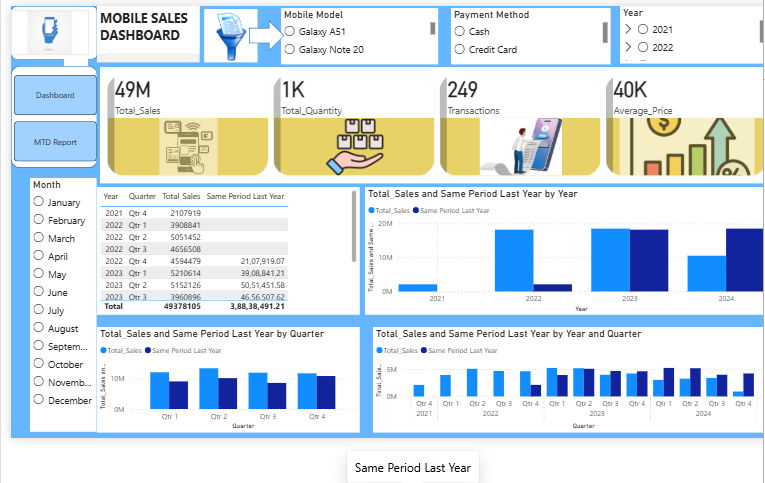

What the dashboard file says about the page in this screenshot:
{"tool":"powerbi","page":{"name":"Same Period Last Year","canvas":[1280,720],"ordinal":2},"visuals":[{"type":"shape","box":[0,0,144,89.3],"z":0},{"type":"image","box":[0,7.2,129.6,74.9],"z":1000},{"type":"shape","box":[0,99.4,144,169.9],"z":2000},{"type":"cardVisual","fields":{"Data":["Sales_Data.Total_Sales","Sales_Data.Total_Quantity","Sales_Data.Transactions","Sales_Data.Average_Price"]},"box":[144,96.5,1136.2,204.5],"z":3000},{"type":"listSlicer","fields":{"Values":["Sales_Data.Mobile Model"]},"box":[450.7,2.9,262.1,93.6],"z":4000},{"type":"listSlicer","fields":{"Values":["Sales_Data.Payment Method"]},"box":[733,2.9,266.4,93.6],"z":5000},{"type":"listSlicer","fields":{"Values":["Custom_Calender.Date.Variation.Date Hierarchy.Year","Custom_Calender.Date.Variation.Date Hierarchy.Quarter","Custom_Calender.Date.Variation.Date Hierarchy.Month","Custom_Calender.Date.Variation.Date Hierarchy.Day"]},"box":[1015.2,0,246.2,96.5],"z":6000},{"type":"image","box":[305.3,4.3,122.4,89.3],"z":7000},{"type":"shape","box":[397.4,23,59,51.8],"z":8000},{"type":"image","box":[144,0,171.4,93.6],"z":9000},{"type":"textbox","box":[144,0,171.4,79.2],"z":10000},{"type":"listSlicer","fields":{"Values":["Custom_Calender.Date.Variation.Date Hierarchy.Month"]},"box":[31.9,287.2,110.9,423.3],"z":11000},{"type":"tableEx","fields":{"Values":["Custom_Calender.Date.Variation.Date Hierarchy.Year","Custom_Calender.Date.Variation.Date Hierarchy.Quarter","Sales_Data.Total_Sales","Sales_Data.Same Period Last Year"]},"box":[144,301,437.8,213.1],"z":12000},{"type":"clusteredColumnChart","fields":{"Category":["Custom_Calender.Date.Variation.Date Hierarchy.Year","Custom_Calender.Date.Variation.Date Hierarchy.Quarter"],"Y":["Sales_Data.Total_Sales","Sales_Data.Same Period Last Year"]},"box":[590.4,301,671,213.1],"z":13000},{"type":"clusteredColumnChart","fields":{"Category":["Custom_Calender.Date.Variation.Date Hierarchy.Year","Custom_Calender.Date.Variation.Date Hierarchy.Quarter"],"Y":["Sales_Data.Total_Sales","Sales_Data.Same Period Last Year"]},"box":[603.4,534.2,658.1,175.7],"z":14000},{"type":"clusteredColumnChart","fields":{"Category":["Custom_Calender.Date.Variation.Date Hierarchy.Year","Custom_Calender.Date.Variation.Date Hierarchy.Quarter"],"Y":["Sales_Data.Total_Sales","Sales_Data.Same Period Last Year"]},"box":[144,534.2,437.8,175.7],"z":15000},{"type":"pageNavigator","box":[5.8,115.2,138.2,144],"z":16000}]}

Visuals, with their boxes on the page's 1280x720 design canvas (x1, y1, x2, y2). These are canvas units, not pixel positions in the 765x483 screenshot, which may show the page scaled, cropped or inside an application window:
shape: [0,0,144,89]
image: [0,7,130,82]
shape: [0,99,144,269]
cardVisual - Sales_Data.Total_Sales x Sales_Data.Total_Quantity: [144,96,1280,301]
listSlicer - Sales_Data.Mobile Model: [451,3,713,96]
listSlicer - Sales_Data.Payment Method: [733,3,999,96]
listSlicer - Custom_Calender.Date.Variation.Date Hierarchy.Year x Custom_Calender.Date.Variation.Date Hierarchy.Quarter: [1015,0,1261,96]
image: [305,4,428,94]
shape: [397,23,456,75]
image: [144,0,315,94]
textbox: [144,0,315,79]
listSlicer - Custom_Calender.Date.Variation.Date Hierarchy.Month: [32,287,143,710]
tableEx - Custom_Calender.Date.Variation.Date Hierarchy.Year x Custom_Calender.Date.Variation.Date Hierarchy.Quarter: [144,301,582,514]
clusteredColumnChart - Custom_Calender.Date.Variation.Date Hierarchy.Year x Custom_Calender.Date.Variation.Date Hierarchy.Quarter: [590,301,1261,514]
clusteredColumnChart - Custom_Calender.Date.Variation.Date Hierarchy.Year x Custom_Calender.Date.Variation.Date Hierarchy.Quarter: [603,534,1262,710]
clusteredColumnChart - Custom_Calender.Date.Variation.Date Hierarchy.Year x Custom_Calender.Date.Variation.Date Hierarchy.Quarter: [144,534,582,710]
pageNavigator: [6,115,144,259]
